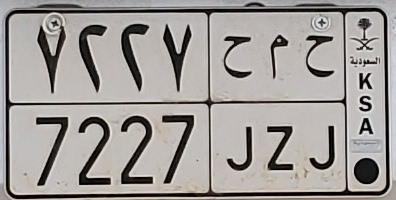2: (120, 21, 156, 186), (77, 24, 113, 185)
7: (32, 23, 69, 186), (160, 23, 196, 185)
J: (222, 34, 256, 171), (304, 33, 337, 171)
Z: (264, 34, 297, 173)
